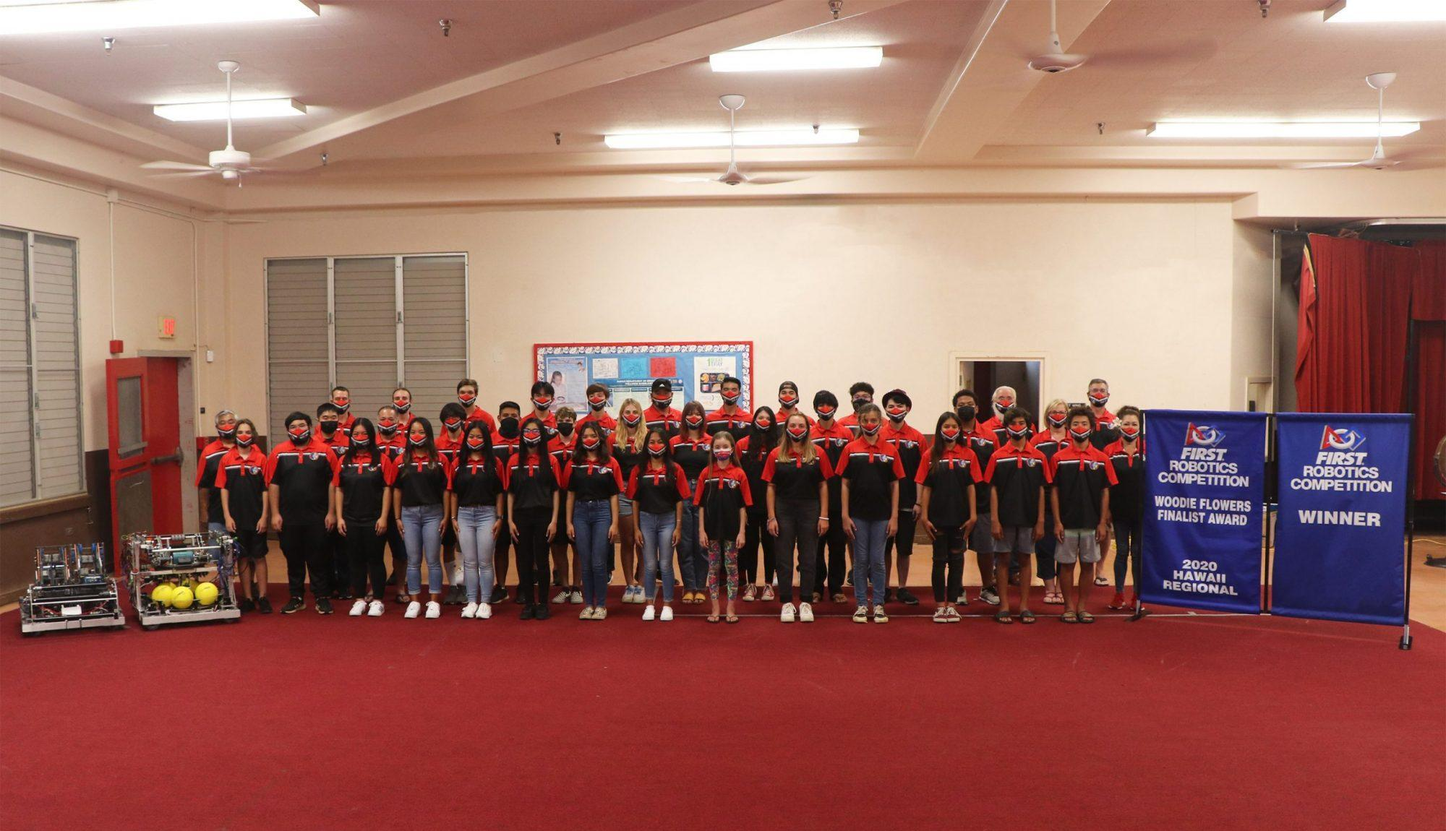robot: (124, 519, 246, 632), (13, 538, 131, 641)
